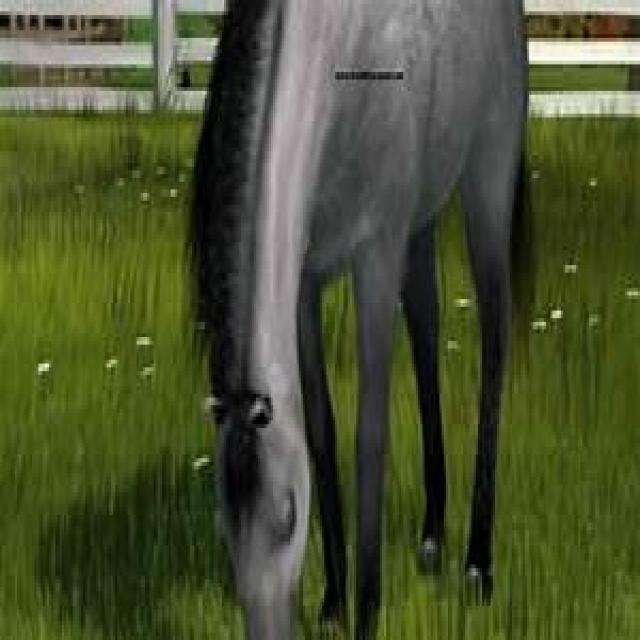horse: (190, 0, 529, 640)
